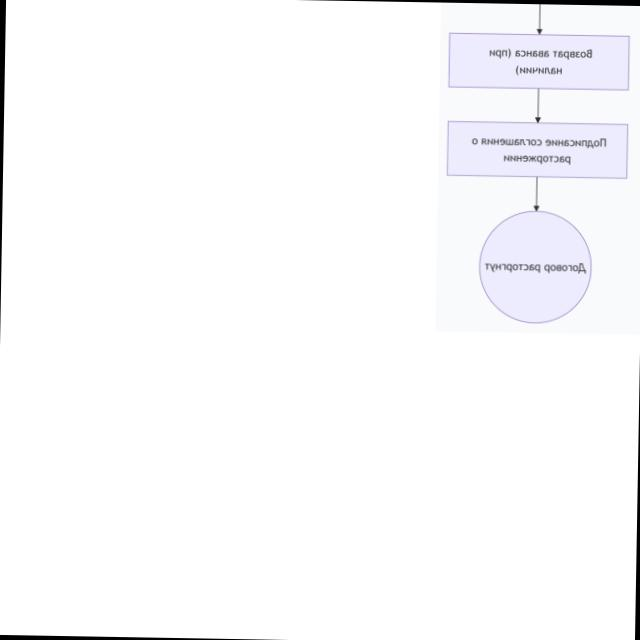arrow: (531, 177, 541, 211), (534, 89, 544, 122)
circle: (479, 211, 590, 322)
rectangle: (446, 122, 626, 179), (448, 33, 628, 90)
